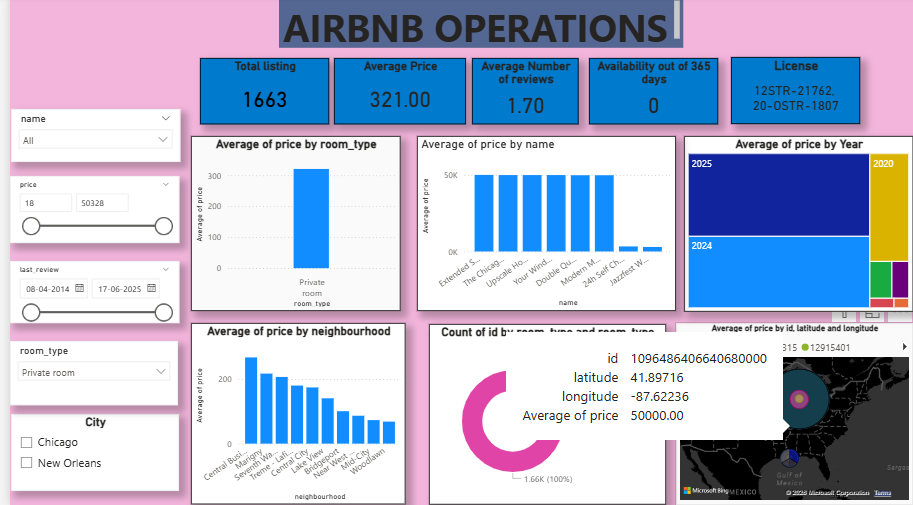

This screenshot's page, from the dashboard's own definition file:
{"tool":"powerbi","page":{"name":"Page 1","canvas":[1280,720],"ordinal":0},"visuals":[{"type":"slicer","title":"City","fields":{"Values":["Combine table.City"]},"box":[1.4,591,238.1,109.1],"z":0},{"type":"map","fields":{"Y":["Combine table.latitude"],"X":["Combine table.longitude"],"Size":["Avg(Combine table.price)"],"Series":["Combine table.id"]},"box":[944.6,462.2,335.5,257.8],"z":1000},{"type":"slicer","fields":{"Values":["Combine table.name"]},"box":[1.4,158.7,239.5,75.1],"z":2000},{"type":"slicer","fields":{"Values":["Combine table.price"]},"box":[0,253.7,239.5,95],"z":3000},{"type":"card","title":"Total listing","fields":{"Values":["Count(Combine table.id)"]},"box":[269.3,86.4,182.9,93.6],"z":4000},{"type":"card","title":"Average Price ","fields":{"Values":["Avg(Combine table.price)"]},"box":[459.4,86.4,187.2,93.6],"z":5000},{"type":"card","title":"Average Number of reviews","fields":{"Values":["Combine table.Total_num_reviews"]},"box":[655.2,86.4,151.2,93.6],"z":6000},{"type":"clusteredColumnChart","fields":{"Category":["Combine table.neighbourhood"],"Y":["Avg(Combine table.price)"]},"box":[257,461.9,304,257],"z":7000},{"type":"donutChart","fields":{"Y":["Count(Combine table.id)"],"Category":["Combine table.room_type"],"Series":["Combine table.room_type"]},"box":[593.3,463.7,335.5,256.3],"z":8000},{"type":"slicer","fields":{"Values":["Combine table.last_review"]},"box":[0,374.2,239.5,87.9],"z":9000},{"type":"card","title":"Availability out of 365 days","fields":{"Values":["Min(Combine table.availability_365)"]},"box":[820.8,86.4,182.9,93.6],"z":10000},{"type":"slicer","fields":{"Values":["Combine table.room_type"]},"box":[0,487.6,238.1,90.7],"z":11000},{"type":"columnChart","fields":{"Category":["Combine table.room_type"],"Y":["Avg(Combine table.price)"]},"box":[256.7,196.7,296.7,248.3],"z":12000},{"type":"treemap","fields":{"Group":["Combine table.last_review.Variation.Date Hierarchy.Year","Combine table.last_review.Variation.Date Hierarchy.Quarter","Combine table.last_review.Variation.Date Hierarchy.Month","Combine table.last_review.Variation.Date Hierarchy.Day"],"Values":["Avg(Combine table.price)"]},"box":[955.3,197,324.6,249.4],"z":13000},{"type":"card","title":"License","fields":{"Values":["Min(Combine table.license)"]},"box":[1021.7,85,183.3,95],"z":14000},{"type":"textbox","box":[381.7,0,573.3,71.7],"z":16000},{"type":"columnChart","fields":{"Category":["Combine table.name"],"Y":["Avg(Combine table.price)"]},"box":[577.4,197.3,367.2,247.7],"z":16001}]}

Visuals, with their boxes in screenshot pixels (x1, y1, x2, y2), scaled from the page's 1280x720 canvas onto the 913x505 screenshot:
"City" slicer: x1=1, y1=415, x2=171, y2=491
map - Combine table.latitude x Combine table.longitude: x1=674, y1=324, x2=912, y2=504
slicer - Combine table.name: x1=1, y1=111, x2=172, y2=164
slicer - Combine table.price: x1=0, y1=178, x2=171, y2=245
"Total listing" card: x1=192, y1=61, x2=323, y2=126
"Average Price " card: x1=328, y1=61, x2=461, y2=126
"Average Number of reviews" card: x1=467, y1=61, x2=575, y2=126
clusteredColumnChart - Combine table.neighbourhood x Avg(Combine table.price): x1=183, y1=324, x2=400, y2=504
donutChart - Count(Combine table.id) x Combine table.room_type: x1=423, y1=325, x2=662, y2=504
slicer - Combine table.last_review: x1=0, y1=262, x2=171, y2=324
"Availability out of 365 days" card: x1=585, y1=61, x2=716, y2=126
slicer - Combine table.room_type: x1=0, y1=342, x2=170, y2=406
columnChart - Combine table.room_type x Avg(Combine table.price): x1=183, y1=138, x2=395, y2=312
treemap - Combine table.last_review.Variation.Date Hierarchy.Year x Combine table.last_review.Variation.Date Hierarchy.Quarter: x1=681, y1=138, x2=912, y2=313
"License" card: x1=729, y1=60, x2=860, y2=126
textbox: x1=272, y1=0, x2=681, y2=50
columnChart - Combine table.name x Avg(Combine table.price): x1=412, y1=138, x2=674, y2=312
